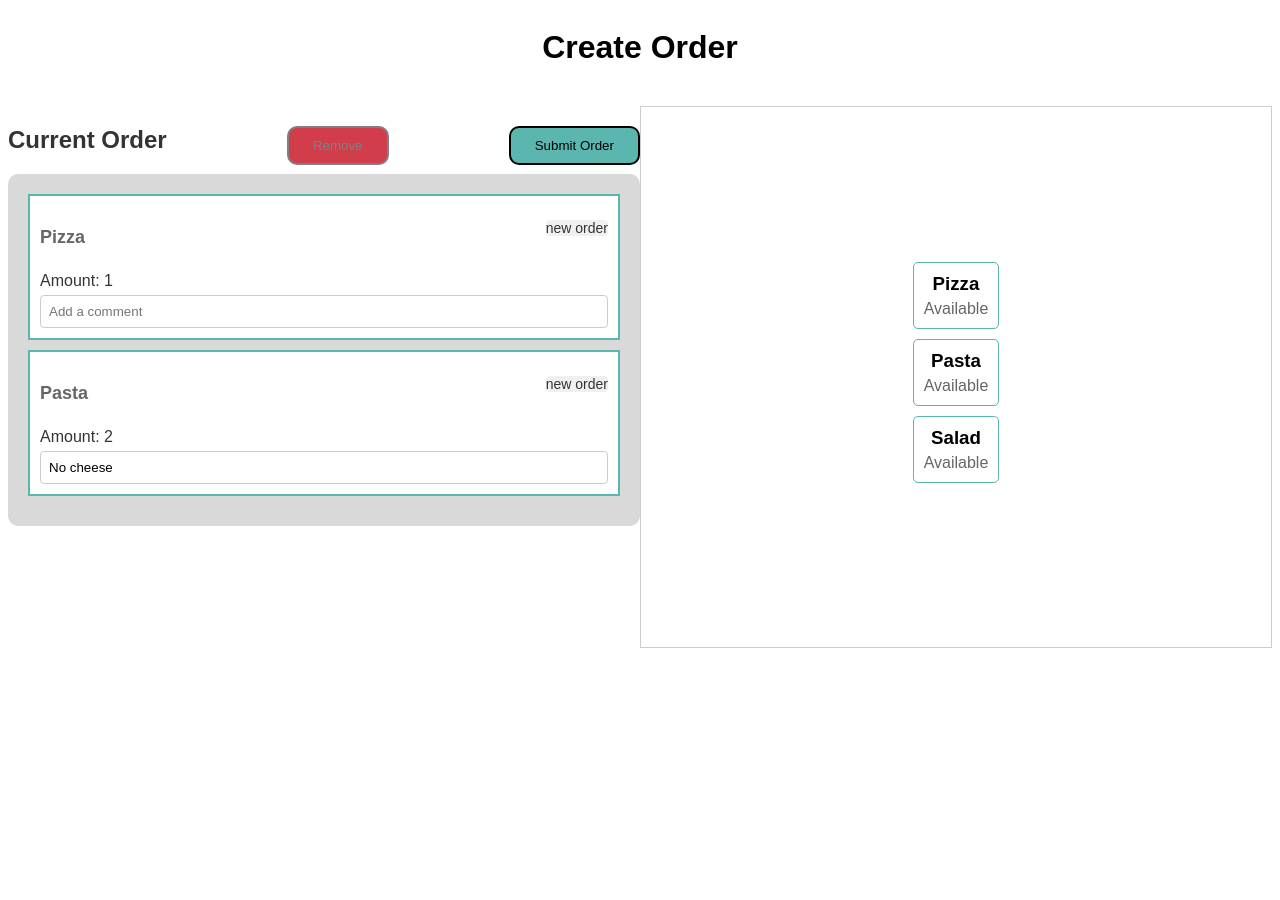
Scenario: CreateOrder Component › shows sold out status
The image size is (1280, 900).
Click the heading "Salad": (956, 437) [931,427,981,448]
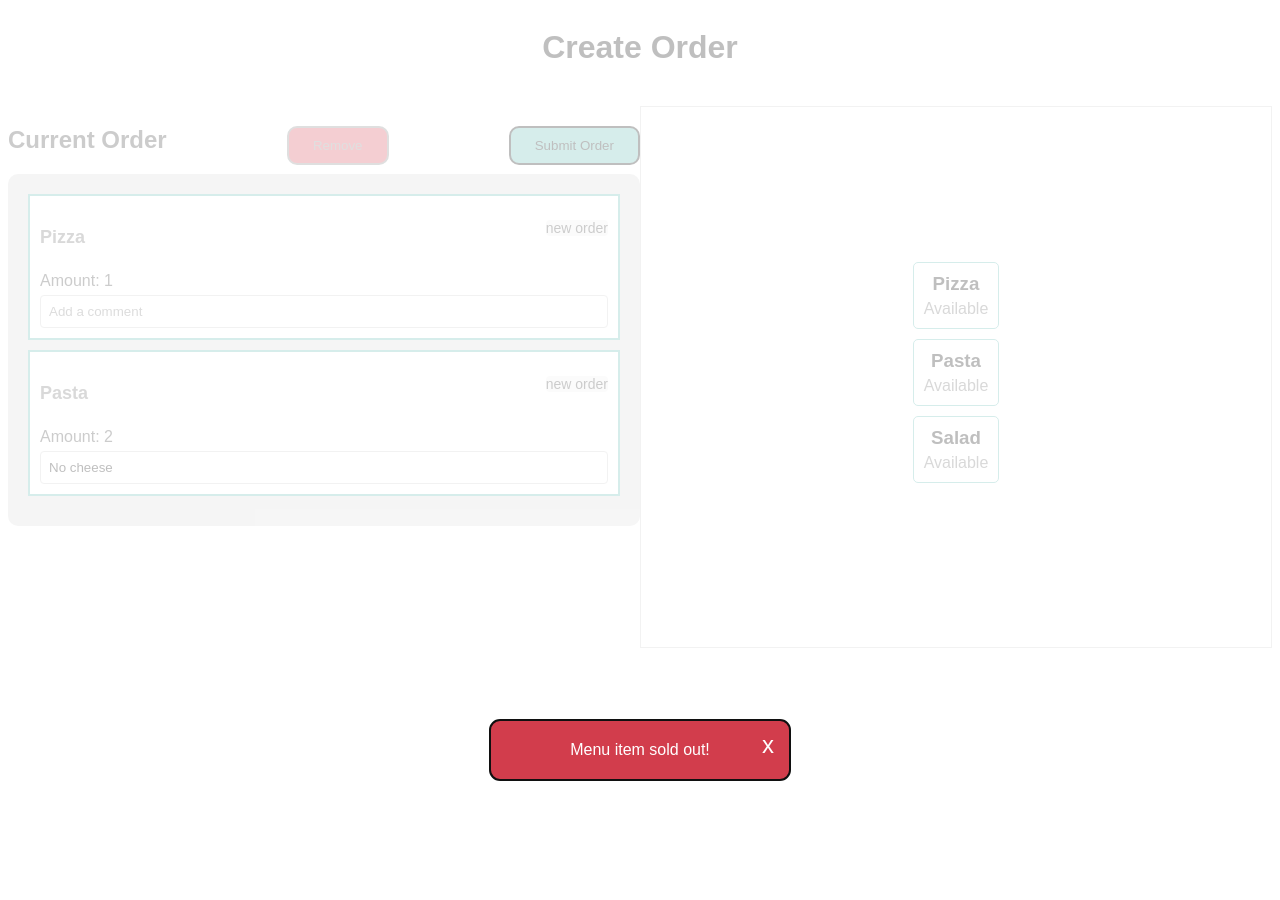
Result: the text "Menu item sold out!" is shown at [570,741,710,758]
